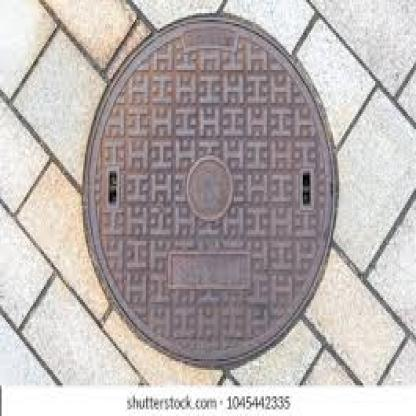manholes: (56, 2, 358, 388)
